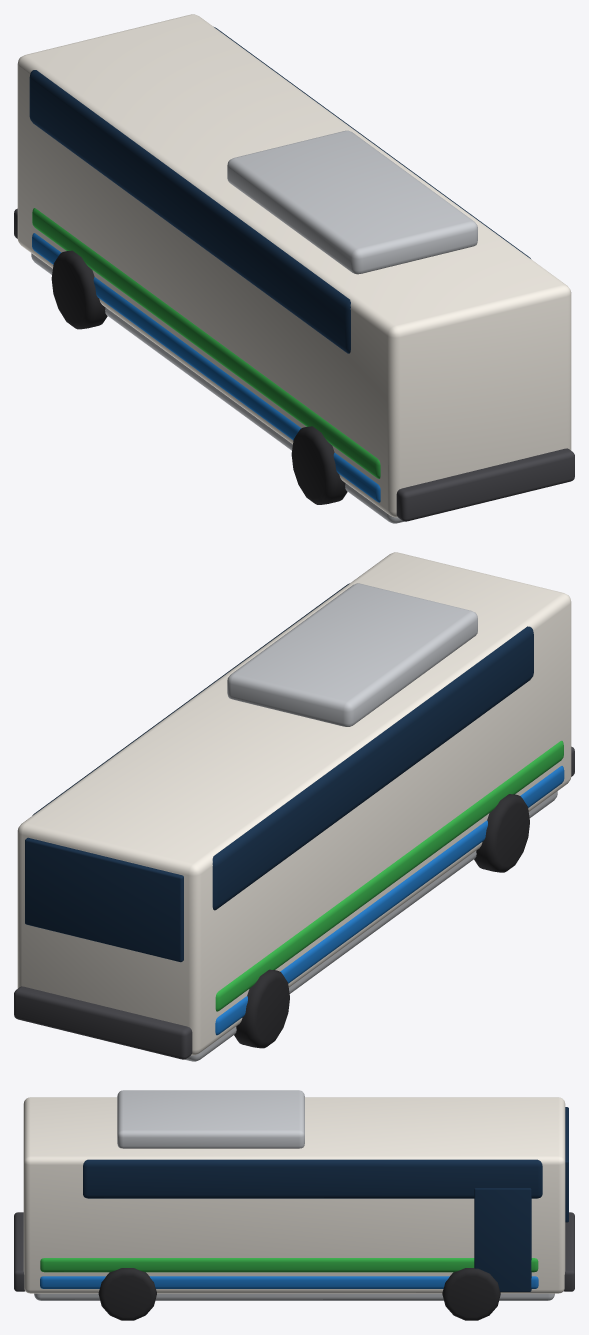
The model's file is commuter-bus.glb.
The picture shows the model from 3 angles, top to bottom: view 1: azimuth 30°, elevation 25°; view 2: azimuth 150°, elevation 25°; view 3: azimuth 270°, elevation 25°; orthographic projection. The views are drawn at different scales.
Parts seen in each view (by area): view 1: Bus_Body, Bus_RoofAC, Bus_WinBand, Bus_StripeGreen, Bus_Bumper_R, Bus_StripeBlue, Wheel_2V_CommuterBus, Wheel_0V_CommuterBus, Bus_Skirt; view 2: Bus_Body, Bus_RoofAC, Bus_WinBand, Bus_Windshield, Bus_StripeGreen, Bus_Bumper_F, Bus_StripeBlue, Wheel_0V_CommuterBus, Wheel_2V_CommuterBus, Bus_Skirt; view 3: Bus_Body, Bus_WinBand, Bus_RoofAC, Bus_StripeGreen, Bus_Door, Bus_StripeBlue, Bus_Skirt, Wheel_3V_CommuterBus, Wheel_1V_CommuterBus, Bus_Bumper_R, Bus_Bumper_F, Bus_Windshield.
Part boxes in pixels (x1,y1,x2,y2): Bus_Body: (17, 14, 571, 517); Bus_RoofAC: (227, 130, 477, 274); Bus_WinBand: (29, 27, 530, 353); Bus_StripeGreen: (32, 208, 380, 478); Bus_Bumper_R: (396, 448, 574, 521); Bus_StripeBlue: (32, 233, 380, 502); Wheel_2V_CommuterBus: (291, 426, 347, 504); Wheel_0V_CommuterBus: (51, 250, 107, 329); Bus_Skirt: (31, 253, 403, 523); Bus_Body: (17, 552, 571, 1055); Bus_RoofAC: (227, 583, 477, 726); Bus_WinBand: (32, 583, 533, 910); Bus_Windshield: (25, 837, 183, 962); Bus_StripeGreen: (215, 740, 563, 1011); Bus_Bumper_F: (14, 986, 192, 1059); Bus_StripeBlue: (215, 766, 564, 1035); Wheel_0V_CommuterBus: (234, 969, 289, 1048); Wheel_2V_CommuterBus: (474, 794, 529, 872); Bus_Skirt: (185, 791, 557, 1061); Bus_Body: (23, 1097, 565, 1293); Bus_WinBand: (83, 1159, 542, 1198); Bus_RoofAC: (117, 1090, 304, 1148); Bus_StripeGreen: (40, 1258, 538, 1272); Bus_Door: (474, 1188, 531, 1291); Bus_StripeBlue: (40, 1276, 538, 1288); Bus_Skirt: (34, 1293, 554, 1300); Wheel_3V_CommuterBus: (98, 1268, 156, 1320); Wheel_1V_CommuterBus: (442, 1268, 500, 1320); Bus_Bumper_R: (14, 1212, 24, 1291); Bus_Bumper_F: (564, 1212, 574, 1291); Bus_Windshield: (565, 1107, 568, 1222).
Bounding box in the file's own units: 3.24 × 3.74 × 10.77.
